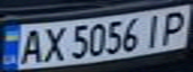0: (87, 20, 109, 56)
5: (66, 21, 90, 60), (103, 17, 127, 55)
6: (121, 15, 148, 52)
A: (15, 26, 45, 65)
I: (139, 11, 169, 48)
P: (157, 8, 193, 46)
X: (36, 24, 69, 63)
